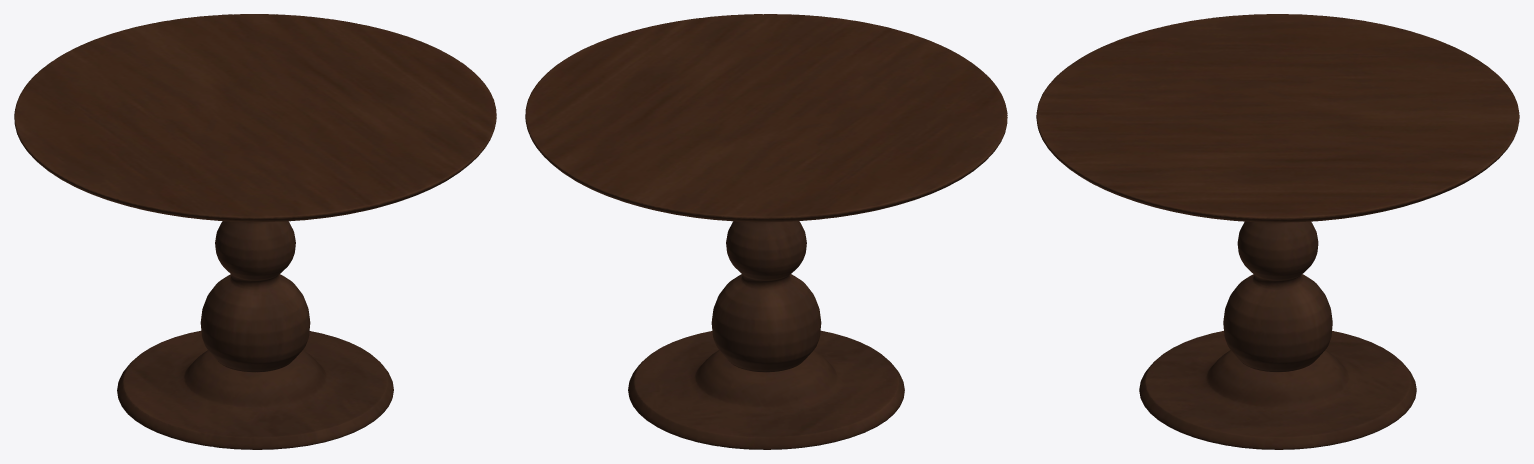
File: mesa_redonda.glb
3 renders of one model, left to right at view 1: azimuth 30°, elevation 25°; view 2: azimuth 150°, elevation 25°; view 3: azimuth 270°, elevation 25°, orthographic.
Visible parts, largest first — view 1: world; view 2: world; view 3: world.
Part boxes in pixels (x1,y1,x2,y2): world: [14, 14, 496, 449]; world: [525, 14, 1007, 449]; world: [1036, 14, 1519, 449].
Bounding box in the file's own units: 1 × 0.6311 × 1.
Materials: 1 (1 with a texture image).
